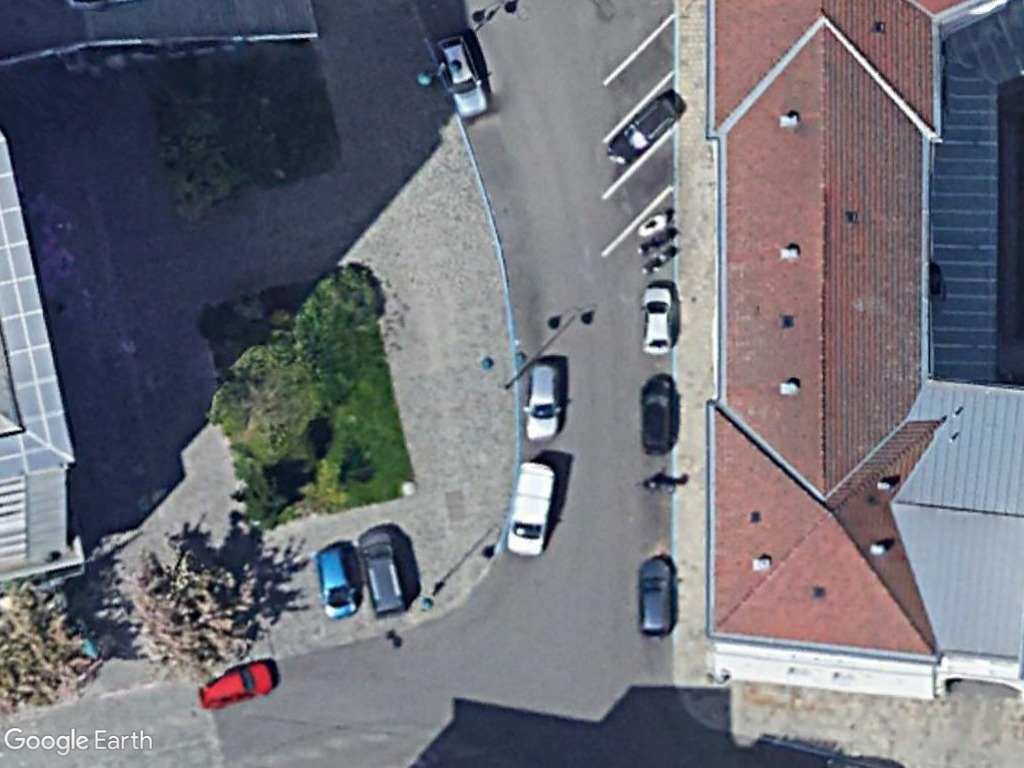car: (606, 86, 686, 167), (435, 32, 496, 125), (192, 657, 279, 713), (635, 550, 680, 646), (521, 351, 566, 446), (312, 540, 363, 623), (636, 280, 680, 367), (635, 370, 677, 459)
van: (501, 454, 559, 562), (356, 524, 409, 620)
